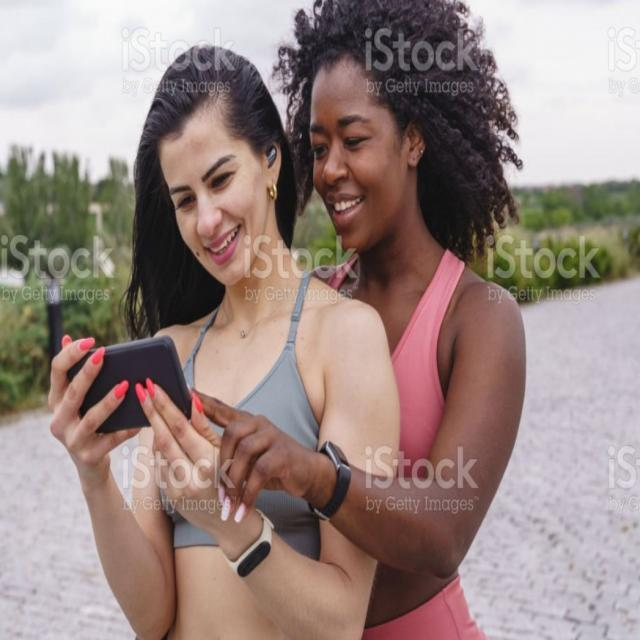Watch: (313, 431, 354, 532), (223, 509, 279, 579)
